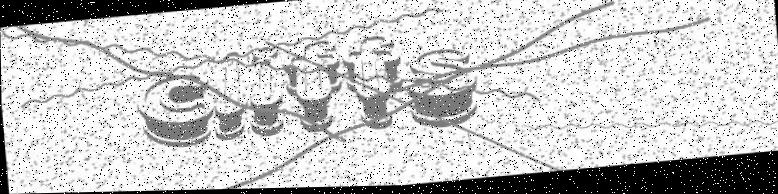c: (133, 72, 216, 152)
f: (338, 34, 406, 135), (279, 38, 345, 137)
i: (243, 45, 286, 140)
l: (209, 49, 247, 143)
s: (403, 48, 480, 133)
